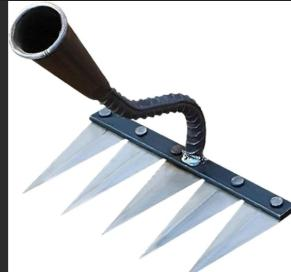RATEAU: (2, 5, 291, 272)
